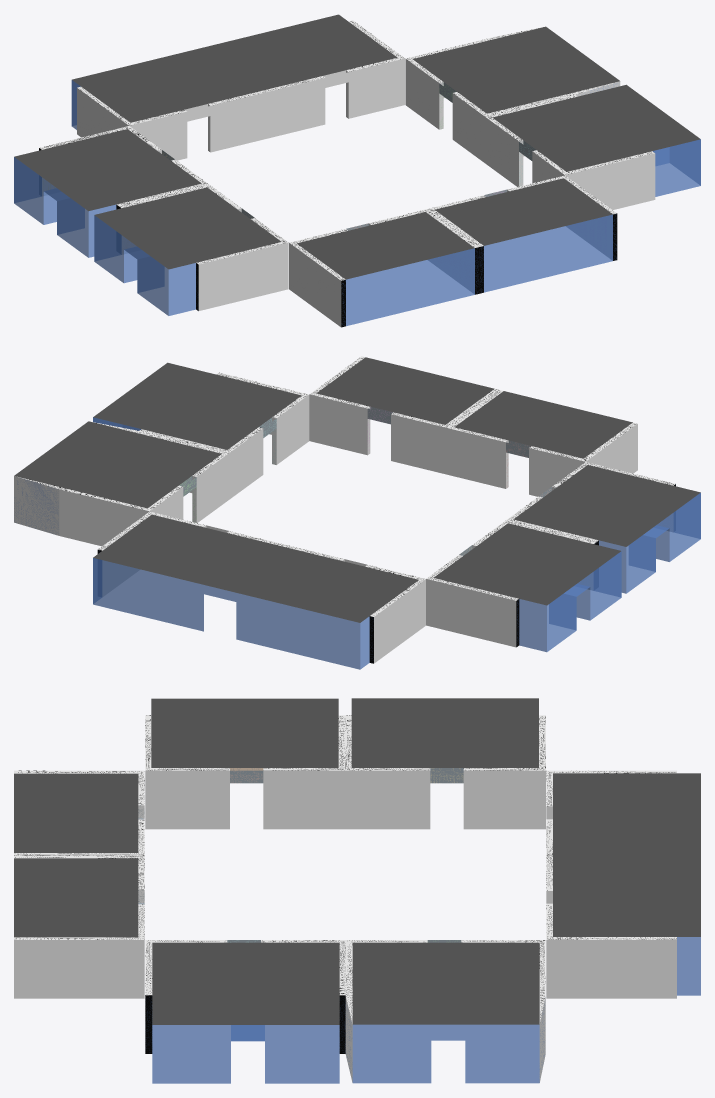
Rendered from finalBuildingArtComplex2.glb.
3 renders of one model, top to bottom at view 1: azimuth 30°, elevation 25°; view 2: azimuth 150°, elevation 25°; view 3: azimuth 270°, elevation 25°, orthographic. The views are drawn at different scales.
Parts seen in each view (by area): view 1: Asset3DLoader.sceneRoot; view 2: Asset3DLoader.sceneRoot; view 3: Asset3DLoader.sceneRoot.
Part boxes in pixels (x1,y1,x2,y2): Asset3DLoader.sceneRoot: (14,14,700,327); Asset3DLoader.sceneRoot: (14,356,700,669); Asset3DLoader.sceneRoot: (14,698,700,1083).
Size of the model in its own units: 218 by 18.25 by 194.
